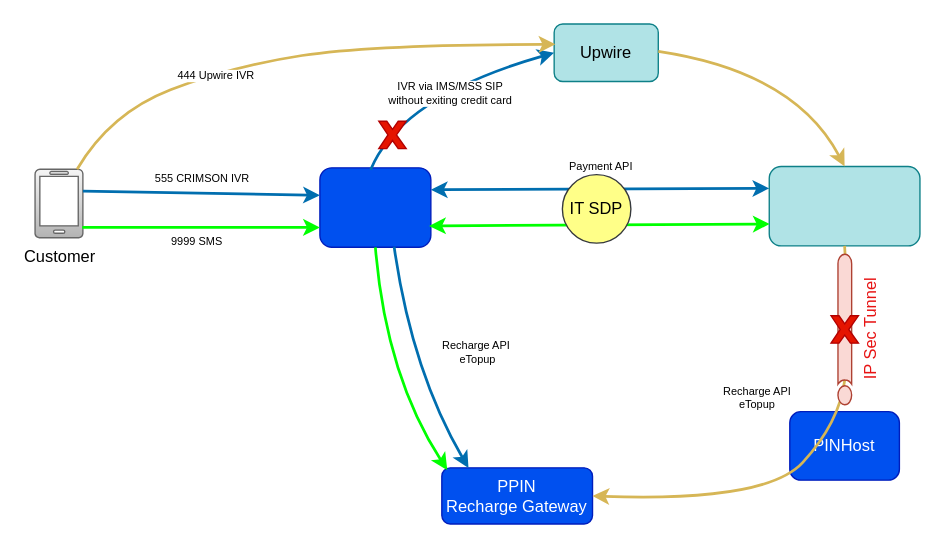
Image size: 944x548. Some labels were removed from this diagram. The shapes that lost their labels are listed below. From the top down, each one's box as (x1, y1, x2, y2) in pixels, then its label:
(319, 166, 431, 247): CDIL
(768, 165, 920, 246): Afterpay Touch Payment Gateway
